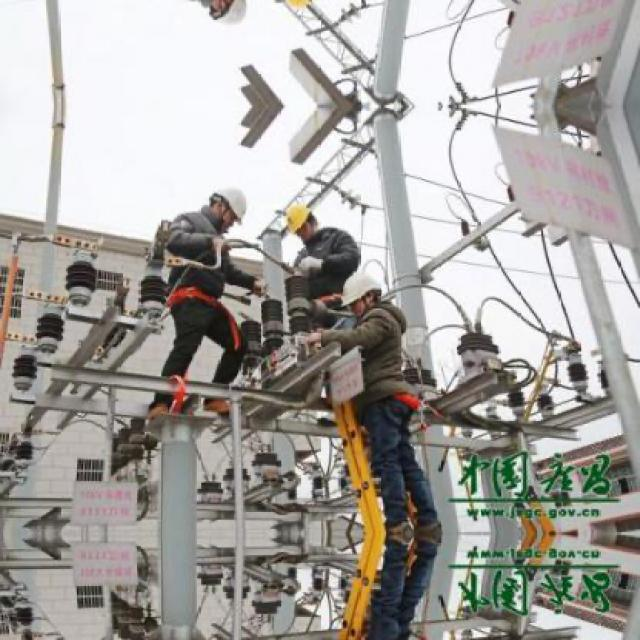helmet: (208, 179, 249, 228), (348, 265, 386, 315), (278, 202, 318, 241), (206, 0, 249, 35), (278, 0, 319, 12)
